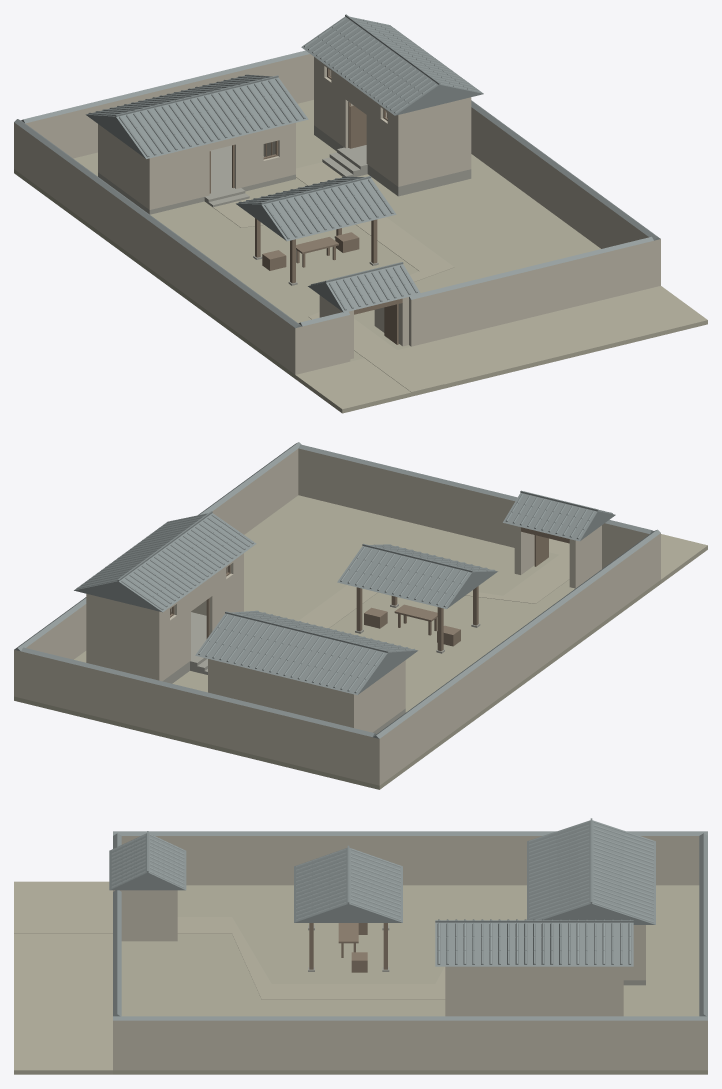
Rendered from B2-LOD0-prototype.glb.
The picture shows the model from 3 angles, top to bottom: view 1: azimuth 30°, elevation 25°; view 2: azimuth 150°, elevation 25°; view 3: azimuth 270°, elevation 25°; orthographic projection. The views are drawn at different scales.
Visible parts, largest first — view 1: architecture_C_whitebox_earth_wall.001, architecture_C_roof_rhythm_not_glaze_copy.001, site_lot, site_neutral_lane, designed_loading_yard, architecture_C_floor_plinth.001, architecture_C_plain_timber.001; view 2: architecture_C_whitebox_earth_wall.001, architecture_C_roof_rhythm_not_glaze_copy.001, site_lot, designed_loading_yard, architecture_C_plain_timber.001, site_neutral_lane, architecture_C_floor_plinth.001; view 3: architecture_C_whitebox_earth_wall.001, site_lot, architecture_C_roof_rhythm_not_glaze_copy.001, site_neutral_lane, designed_loading_yard, architecture_C_plain_timber.001.
Boxes of the visible parts, <box> form: architecture_C_whitebox_earth_wall.001: <box>14,54,660,374</box>; architecture_C_roof_rhythm_not_glaze_copy.001: <box>14,14,660,327</box>; site_lot: <box>14,100,600,378</box>; site_neutral_lane: <box>295,286,707,413</box>; designed_loading_yard: <box>213,162,454,392</box>; architecture_C_floor_plinth.001: <box>98,112,471,285</box>; architecture_C_plain_timber.001: <box>209,68,402,344</box>; architecture_C_whitebox_earth_wall.001: <box>14,448,660,785</box>; architecture_C_roof_rhythm_not_glaze_copy.001: <box>14,442,660,738</box>; site_lot: <box>14,495,660,789</box>; designed_loading_yard: <box>298,547,569,627</box>; architecture_C_plain_timber.001: <box>170,527,569,651</box>; site_neutral_lane: <box>549,534,707,583</box>; architecture_C_floor_plinth.001: <box>162,603,480,733</box>; architecture_C_whitebox_earth_wall.001: <box>113,836,707,1070</box>; site_lot: <box>113,885,707,1074</box>; architecture_C_roof_rhythm_not_glaze_copy.001: <box>109,818,707,1020</box>; site_neutral_lane: <box>14,881,112,1074</box>; designed_loading_yard: <box>14,917,445,999</box>; architecture_C_plain_timber.001: <box>309,923,387,972</box>.
Size of the model in its own units: 18 by 5.27 by 28.
